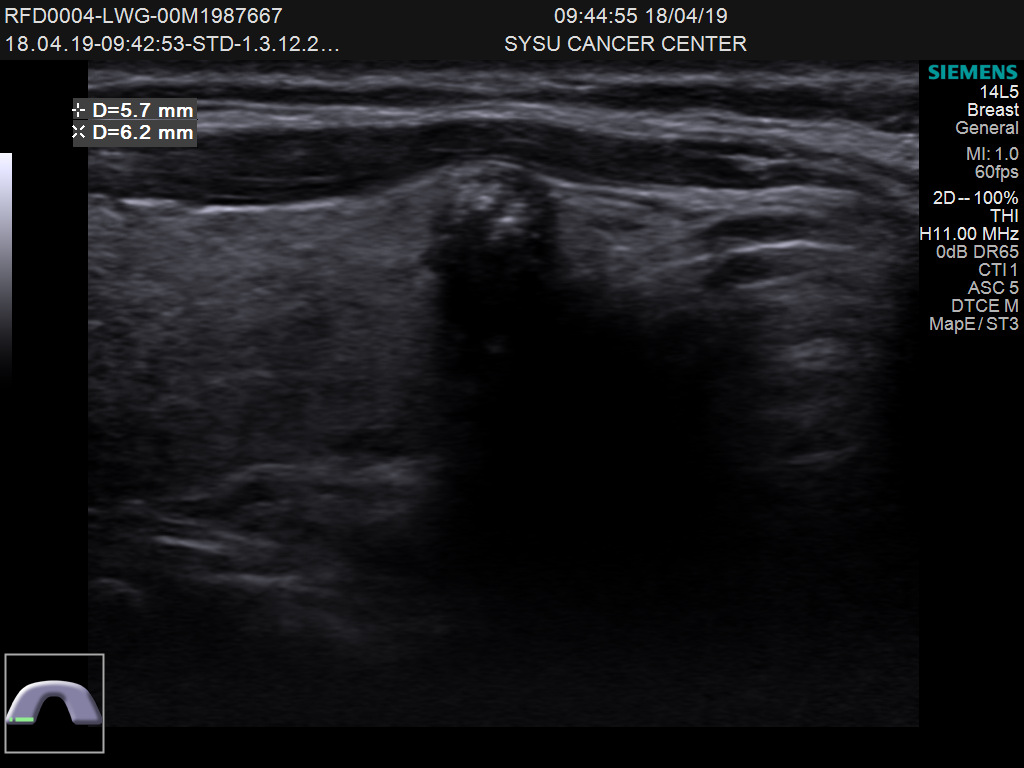Thyroid_tumor: (410, 144, 582, 300)
